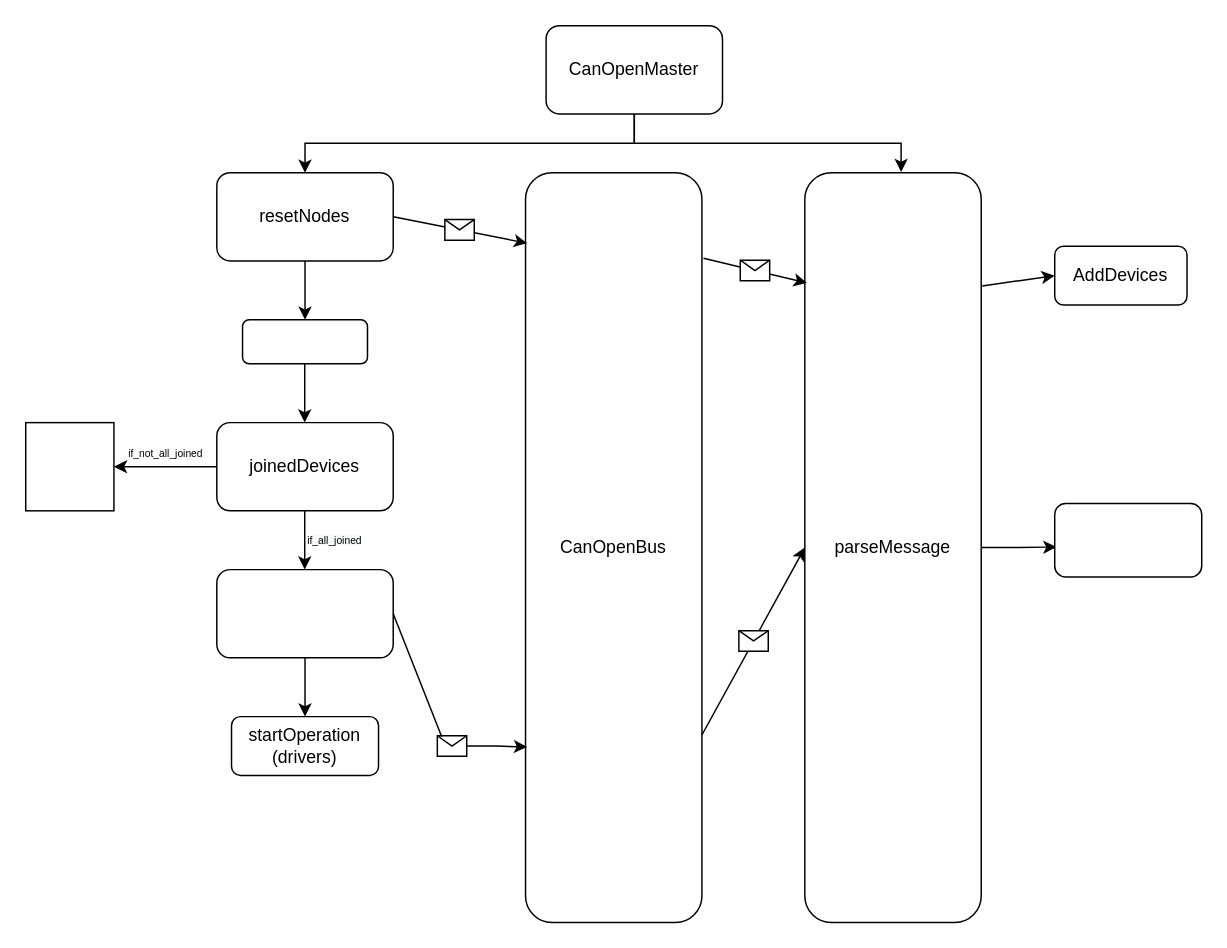
Some shapes in this 1227 by 948 pixel diagram are drawn without their labels. Here are the shapes that lost their labels. From the top down, the centre of each, then its label:
At pixel 304 341: "waitReaction".
At pixel 69 466: "errorState".
At pixel 1127 539: "receiveMsg (Drivers)".
At pixel 304 613: "startAllNodes".
